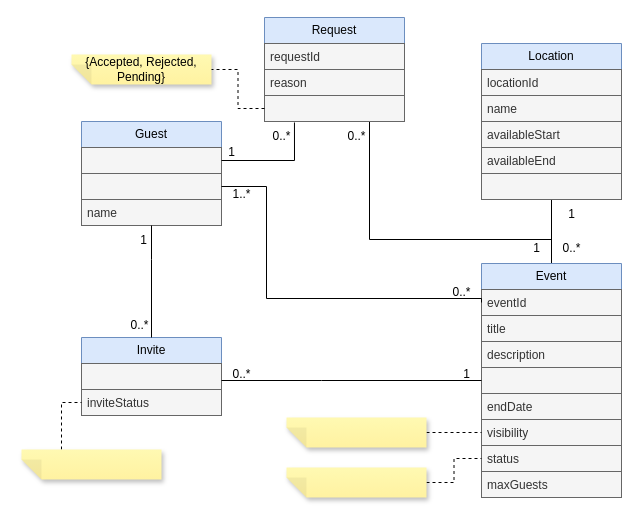
Image size: 639x522. Some labels were removed from this diagram. Each missing label, with the centre of its shape:
capacity: the point at 551,186
guestId: the point at 151,160
inviteId: the point at 151,376
requestStatus: the point at 334,108
startDate: the point at 551,380
viaEmail: the point at 151,186
{Accepted, Rejected, Extended}: the point at 92,465
{Draft, Ready, Active, Canceled}: the point at 357,483
{Public, Private}: the point at 357,433
